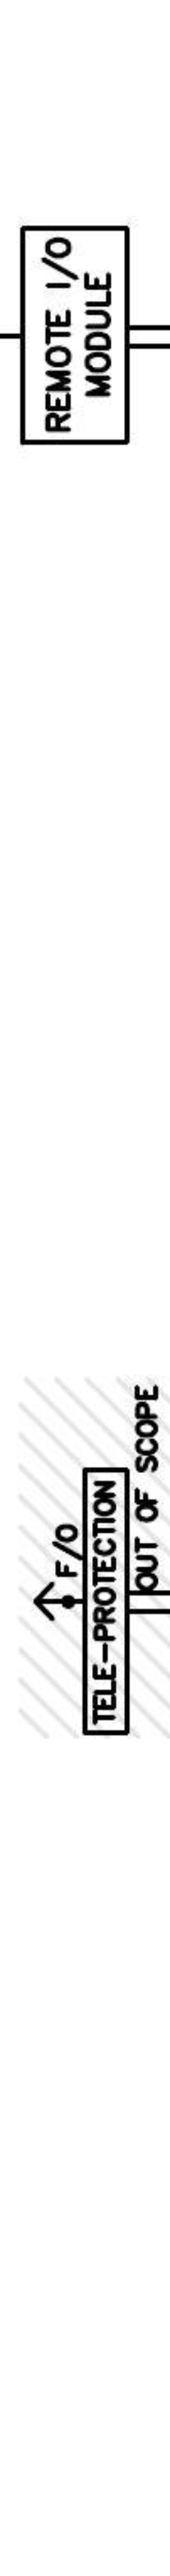remote_io_module: (20, 225, 130, 445)
tele_protection: (81, 1465, 130, 1736)
